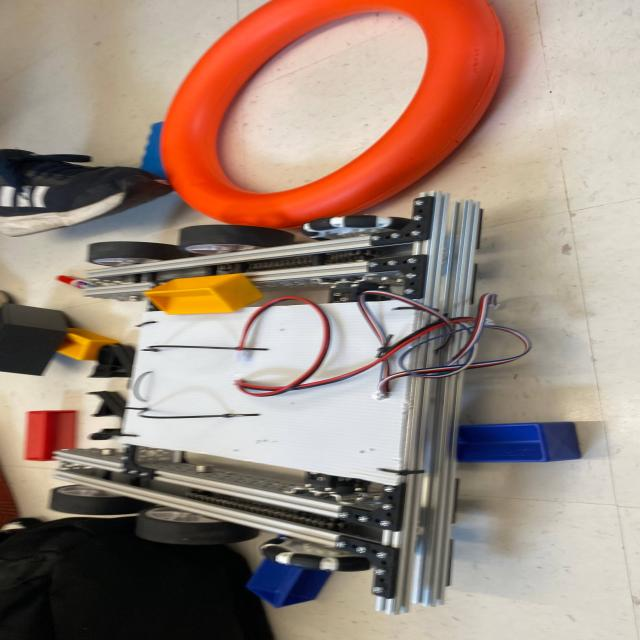blue-specimen: (457, 422, 581, 462), (246, 559, 330, 608)
red-specimen: (24, 410, 77, 461)
yellow-specimen: (143, 273, 263, 315), (57, 328, 119, 360)
